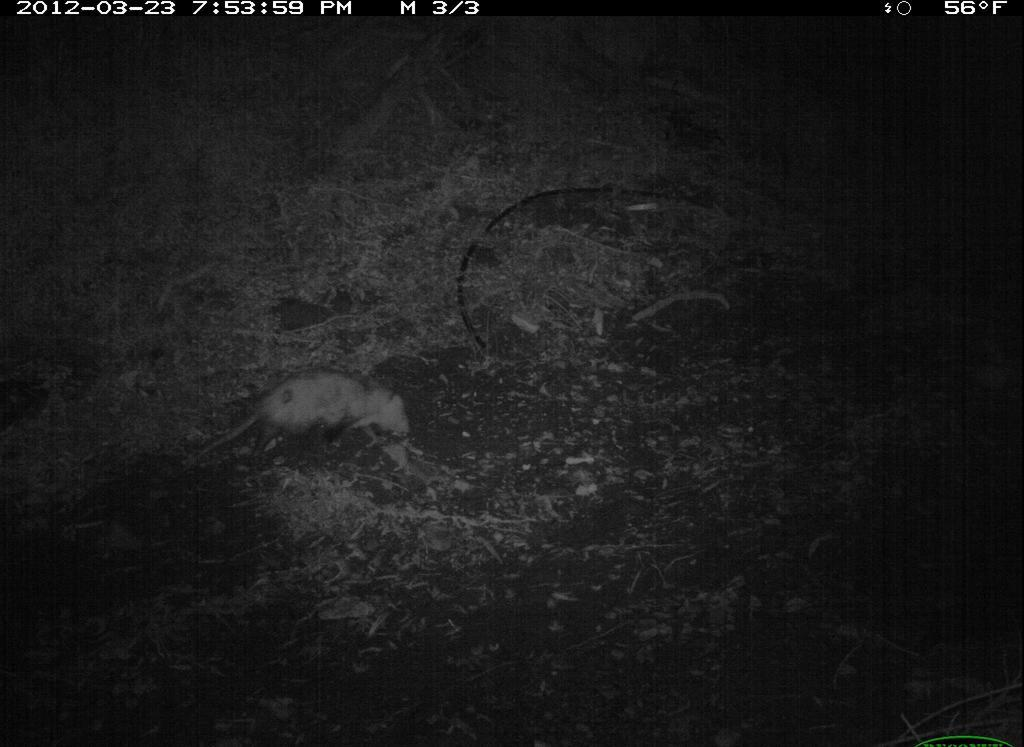opossum: (184, 358, 418, 469)
